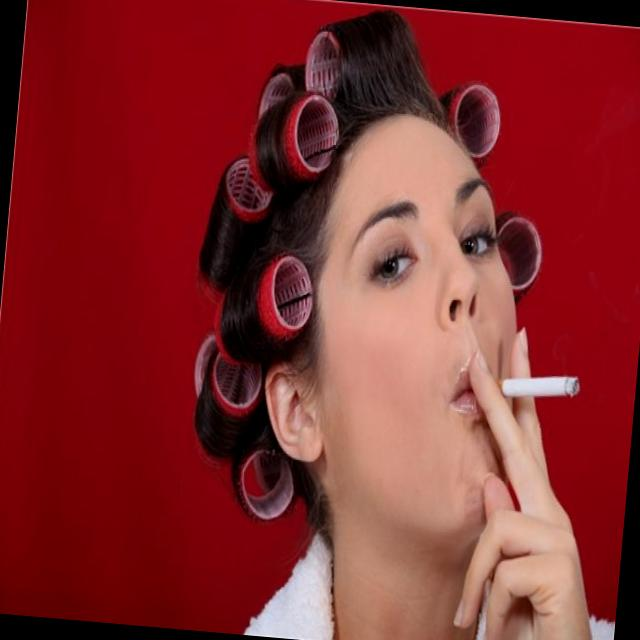cigarette: (484, 360, 593, 420)
